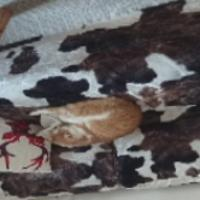asleep: (28, 94, 142, 148)
